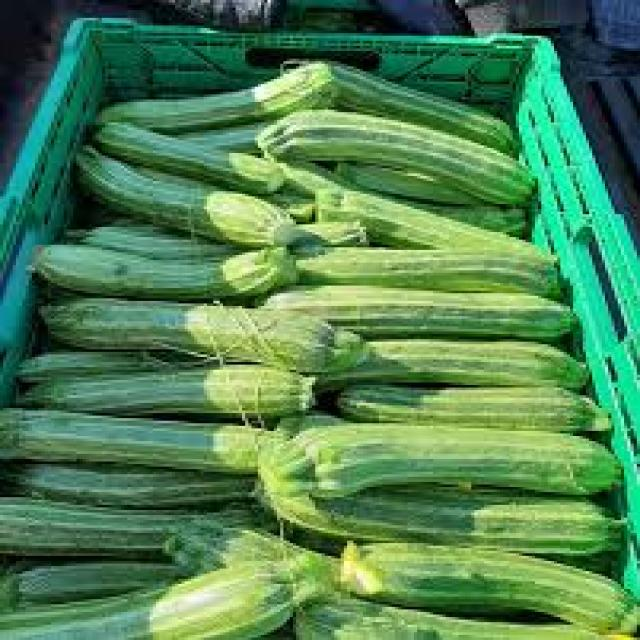Zucchini: (274, 419, 627, 501)
